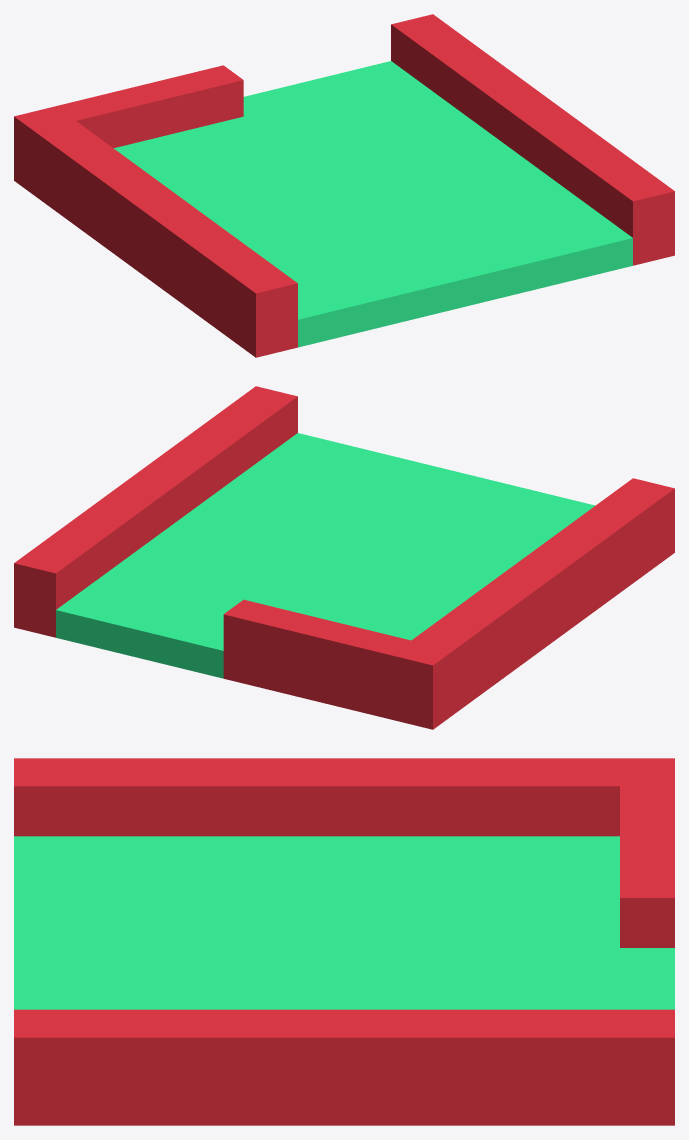
File: wallRight.fbx
The picture shows the model from 3 angles, top to bottom: view 1: azimuth 30°, elevation 25°; view 2: azimuth 150°, elevation 25°; view 3: azimuth 270°, elevation 25°; orthographic projection. The views are drawn at different scales.
Parts seen in each view (by area): view 1: wallRight; view 2: wallRight; view 3: wallRight.
Boxes of the visible parts, <box> form: wallRight: <box>14,14,674,357</box>; wallRight: <box>14,386,674,729</box>; wallRight: <box>14,758,674,1125</box>.
Size of the model in its own units: 10 by 1.47 by 10.
